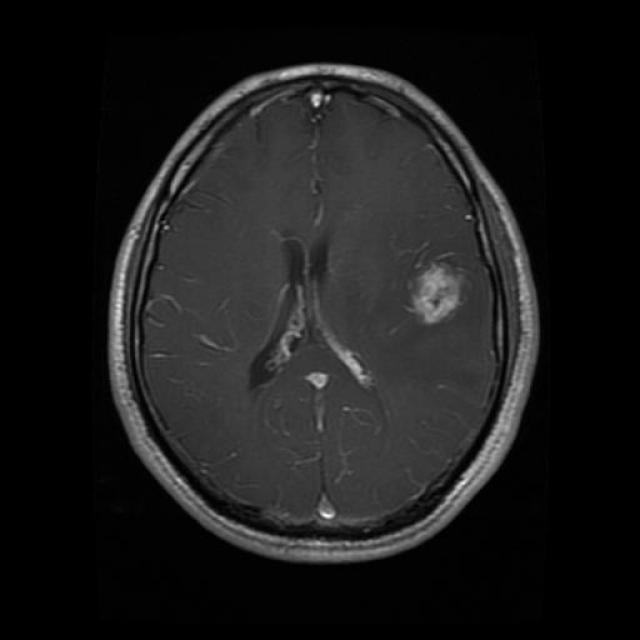Brain-Tumor: (396, 238, 481, 340)
